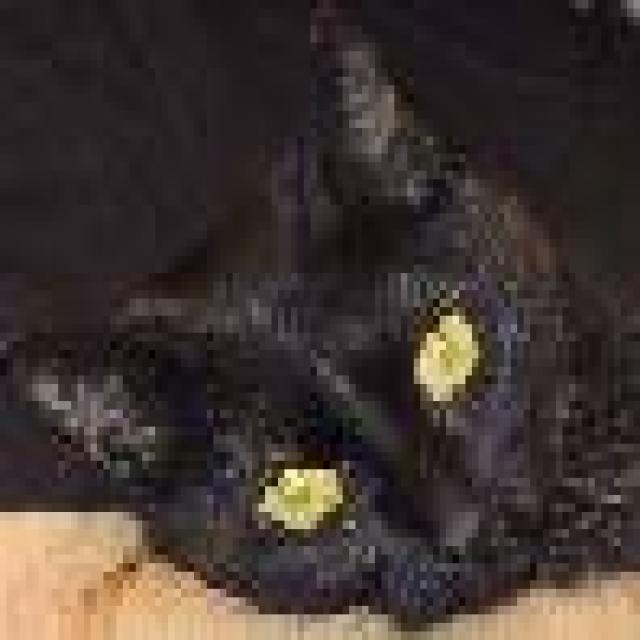cat: (0, 0, 634, 623)
